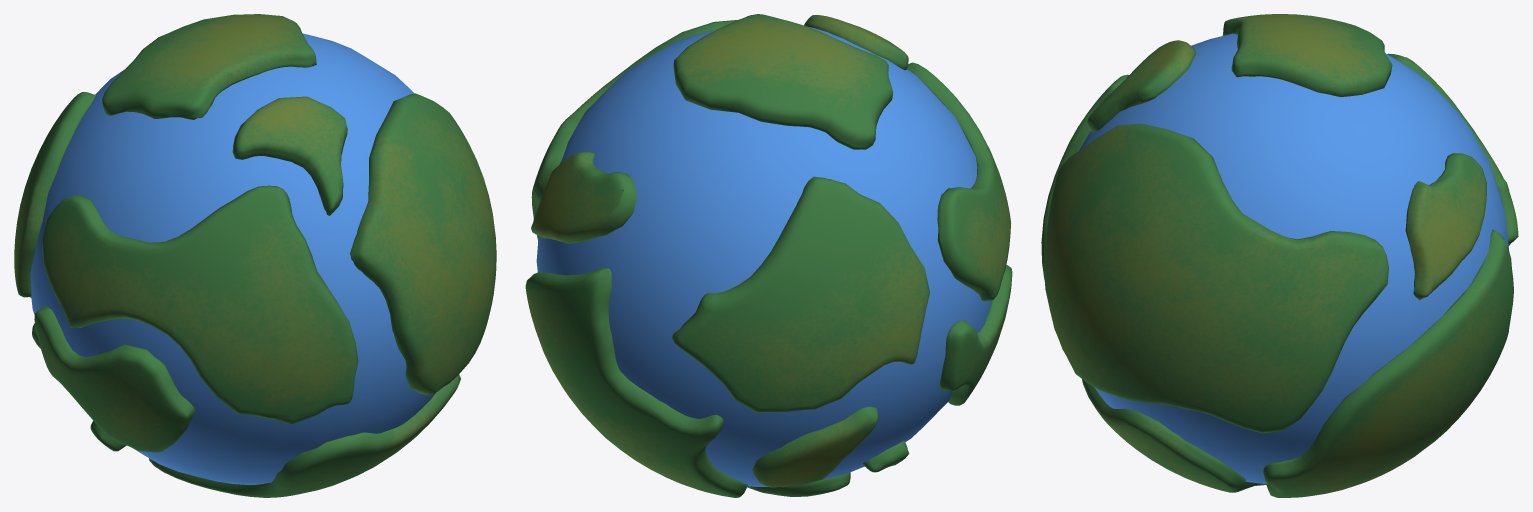
Rendered from planet2_grass.fbx.
3 views of the same model, side by side, from view 1: azimuth 30°, elevation 25°; view 2: azimuth 150°, elevation 25°; view 3: azimuth 270°, elevation 25° (orthographic).
Parts seen in each view (by area): view 1: Grass.001, planet_low; view 2: Grass.001, planet_low; view 3: Grass.001, planet_low.
Boxes of the visible parts, bbox=[...] form: Grass.001: bbox=[14, 14, 496, 497]; planet_low: bbox=[30, 33, 434, 484]; Grass.001: bbox=[525, 14, 1012, 497]; planet_low: bbox=[536, 27, 992, 486]; Grass.001: bbox=[1041, 14, 1518, 497]; planet_low: bbox=[1079, 33, 1508, 483].
Bounding box in the file's own units: 210 × 212 × 209.
